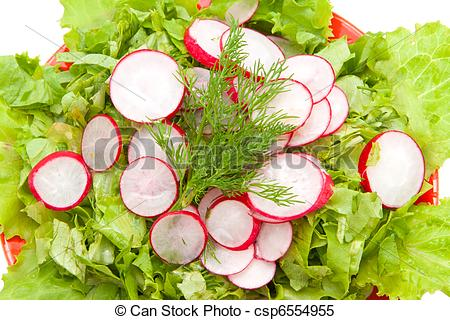chopped lettuce: (5, 61, 446, 292)
